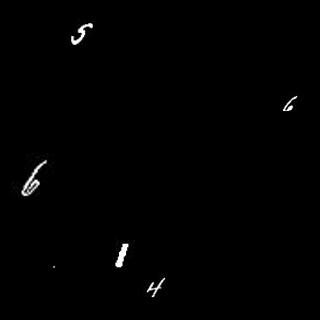dot: (50, 263, 57, 270)
five: (69, 22, 96, 49)
four: (142, 277, 165, 297)
one: (114, 241, 128, 268)
six: (19, 158, 47, 197), (281, 94, 300, 114)
